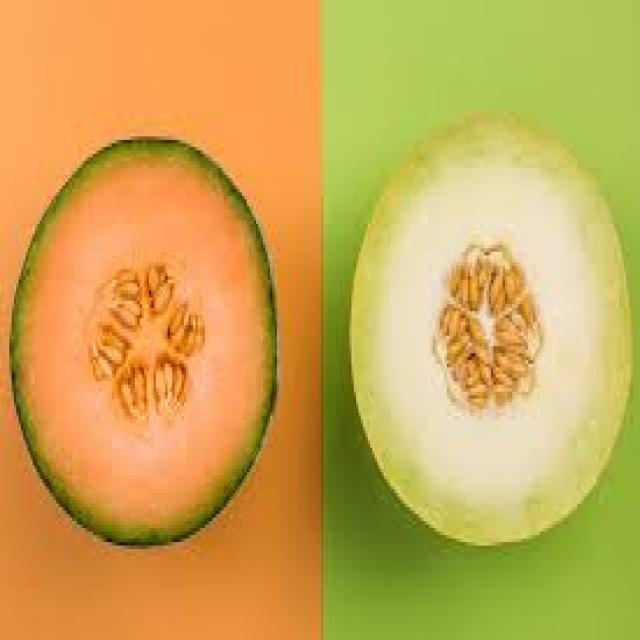melon: (347, 108, 638, 552), (7, 133, 282, 552)
